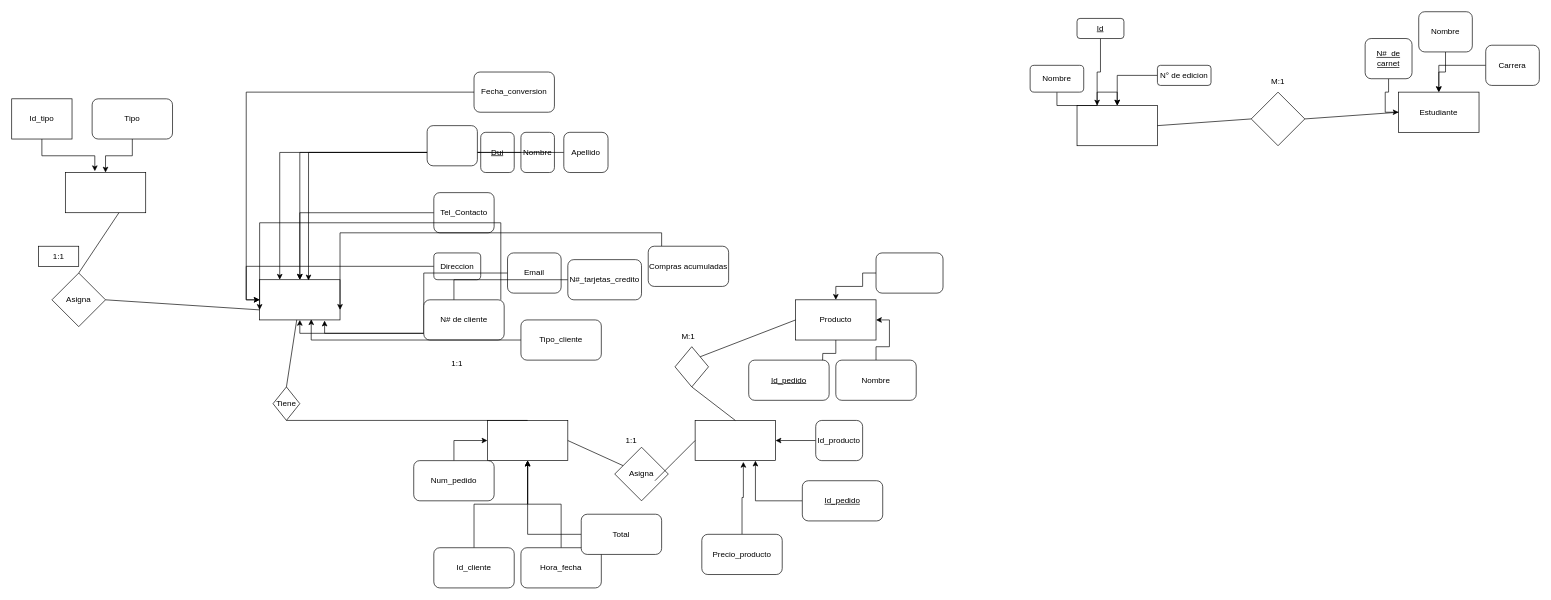
This 1551x600 diagram has some shape labels left out. Here are the shapes that lost their labels. From the top down, the box of each, then its label:
(1076, 105, 1157, 146): Libro
(1251, 91, 1305, 146): Presta
(426, 125, 477, 166): Registro
(65, 172, 146, 213): Tipos de cliente
(875, 252, 943, 293): Descripcion
(259, 279, 340, 320): Clientes
(674, 346, 709, 387): Lleva
(487, 420, 568, 461): Pedido
(694, 420, 776, 461): Detalle_Pedido
